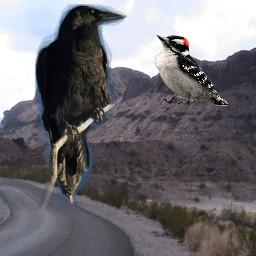Crow: (35, 4, 127, 209)
Woodpecker: (154, 35, 228, 106)
